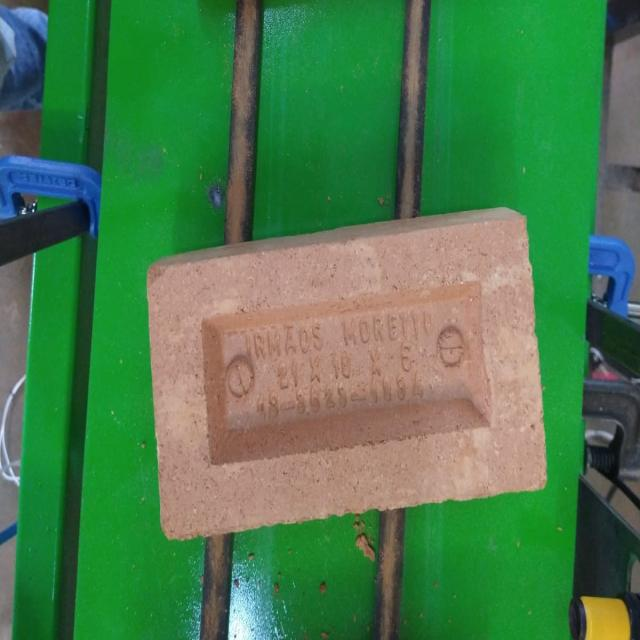bricks: (146, 204, 550, 547)
